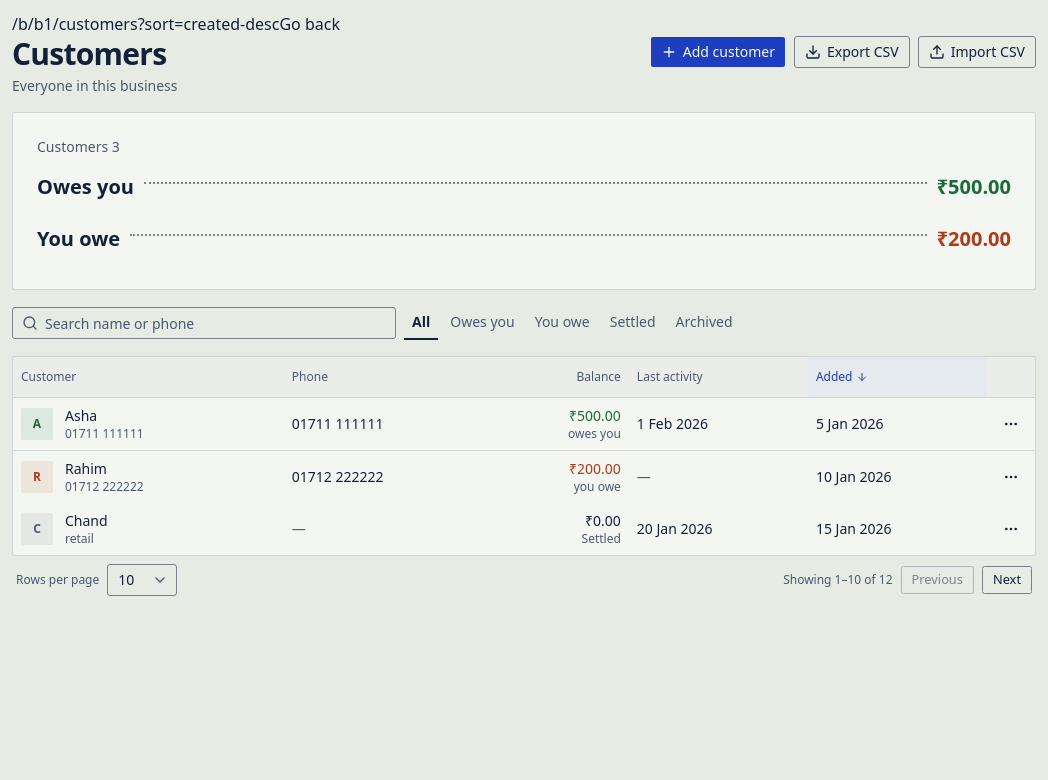
Test: S-28 customers list › resolves Recently added through the URL and pages to the server
The width and height of the screenshot is (1048, 780).
// Next page goes to the server with the same view.
What coordinates should you click on to do the following:
click the button "Next"
I would click on:
 (1007, 580)
Its box is [982,566,1032,594].
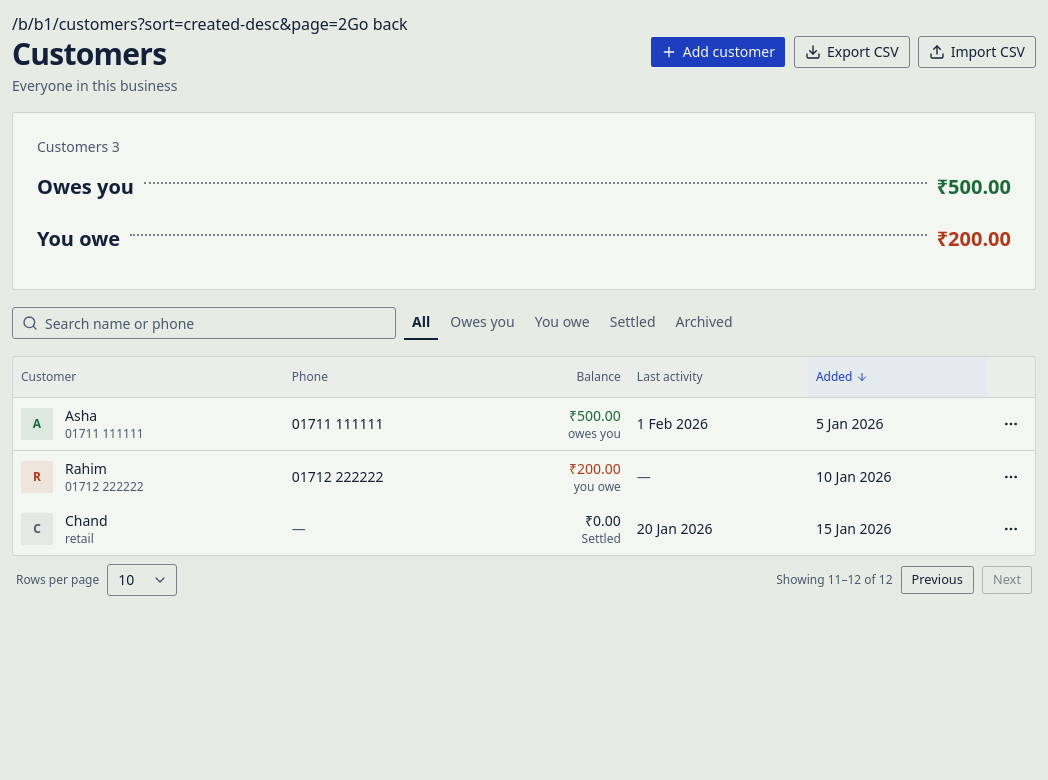
Now the text with test id "search" reads "?sort=created-desc&page=2", box [138,13,347,35]
